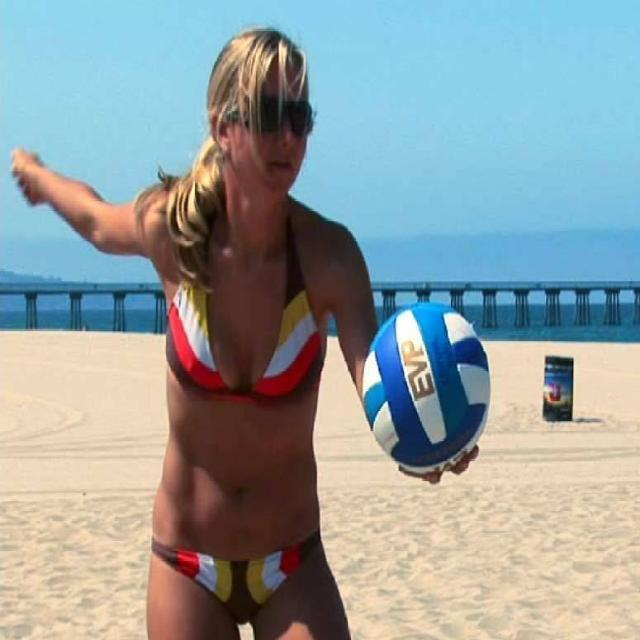volleyball: (362, 300, 490, 474)
